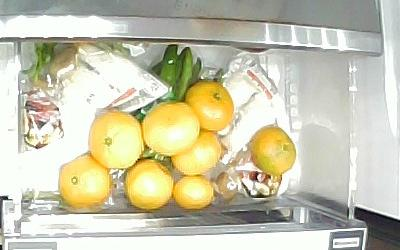tangerine: (89, 111, 143, 172), (141, 101, 199, 156), (58, 155, 111, 210), (187, 80, 235, 133), (125, 160, 174, 211), (250, 124, 297, 177), (170, 133, 221, 175), (170, 175, 214, 210)
